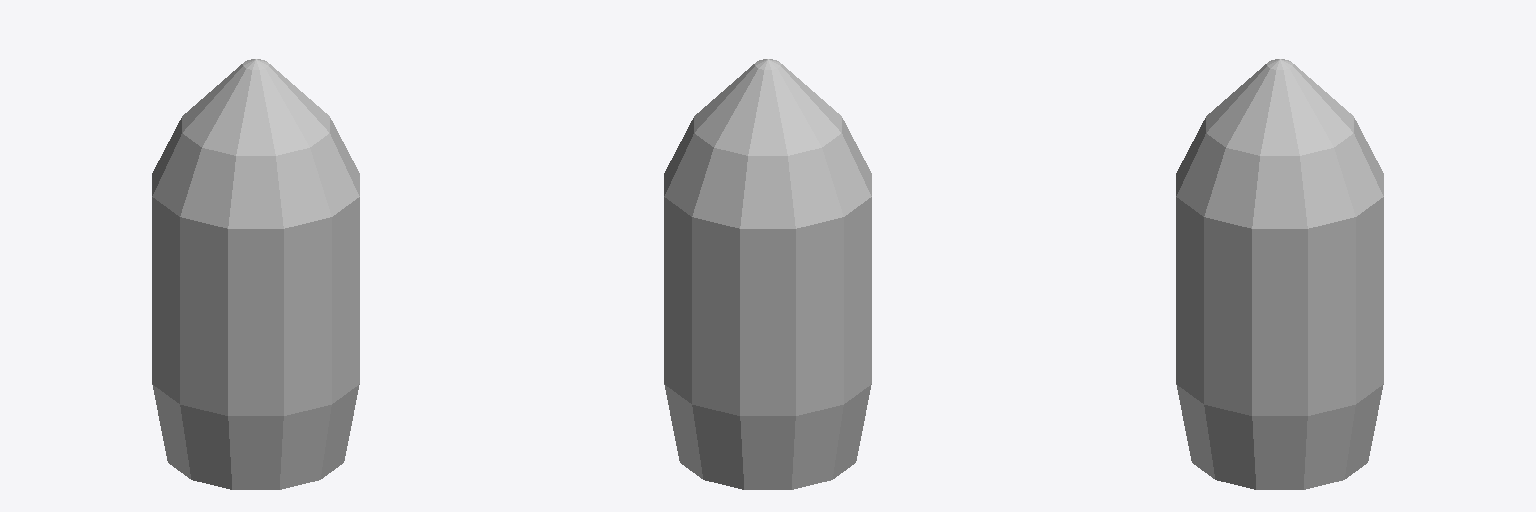
Rendered from projectile.obj.
3 views of the same model, side by side, from view 1: azimuth 30°, elevation 25°; view 2: azimuth 150°, elevation 25°; view 3: azimuth 270°, elevation 25° (orthographic).
Parts seen in each view (by area): view 1: cylinder; view 2: cylinder; view 3: cylinder.
Part boxes in pixels (x1,y1,x2,y2): cylinder: (152,59,359,489); cylinder: (664,59,871,489); cylinder: (1176,59,1383,489).
Bounding box in the file's own units: 0.025 × 0.0523 × 0.025.